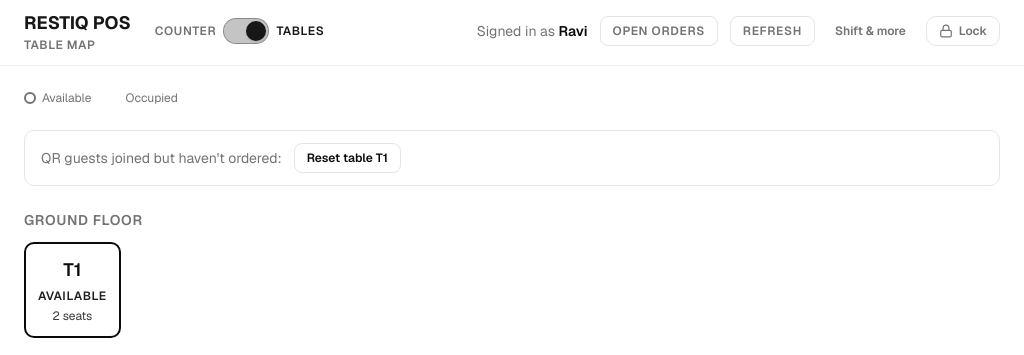
Test: TableMap - abandoned QR sessions (CU-26) › offers Reset table for an empty table whose guests joined but never ordered, after a confirm
Click the button with test id "table-reset-t1".
click(347, 158)  # box [294, 143, 401, 173]
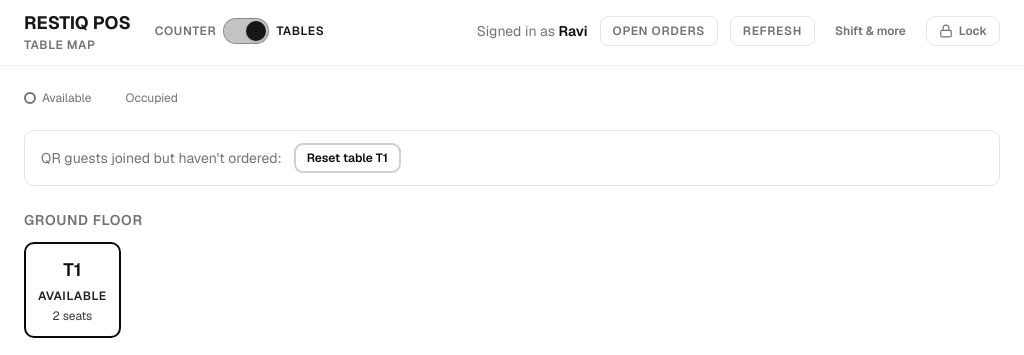
Click the button with test id "table-reset-t1".
click(347, 158)  # box [294, 143, 401, 173]
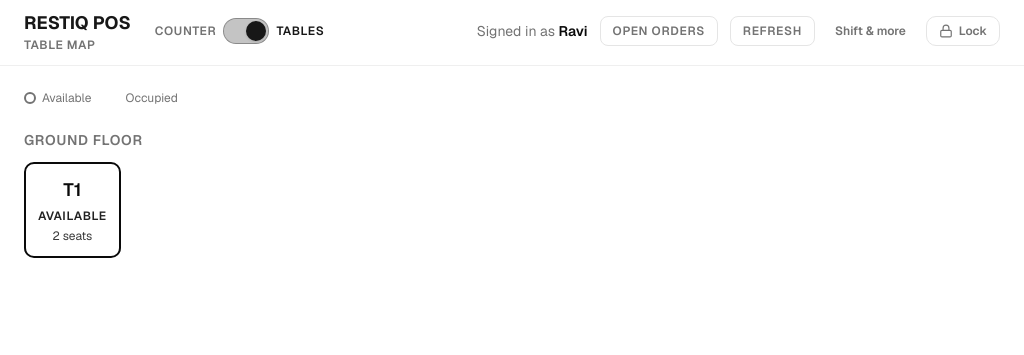
Expected: the button with test id "table-reset-t1" is gone
